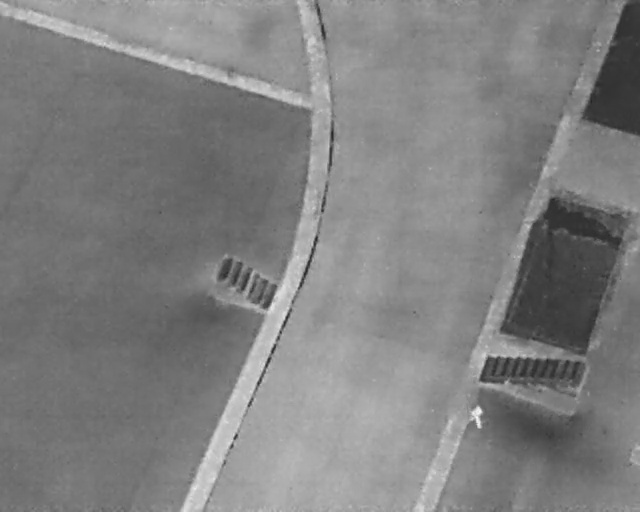Person: (467, 403, 485, 430)
